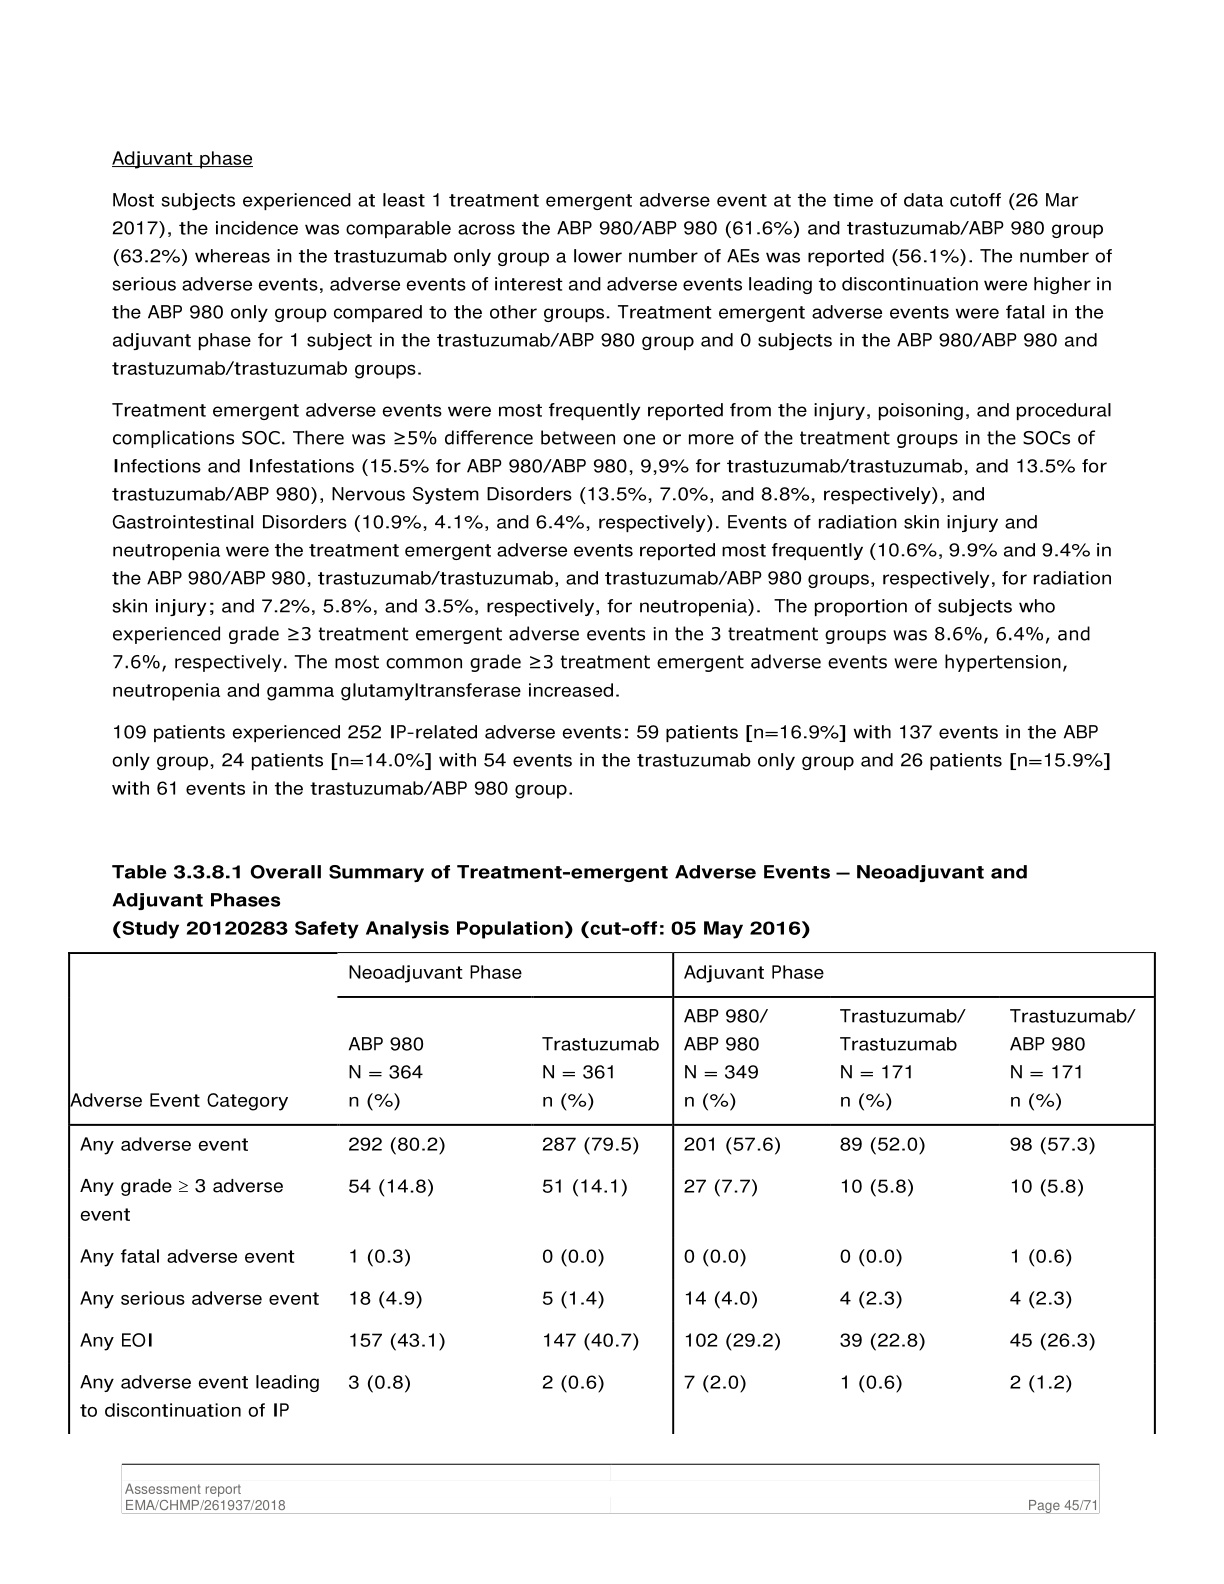partial_lined_merged_cells: (66, 951, 1157, 1436)
